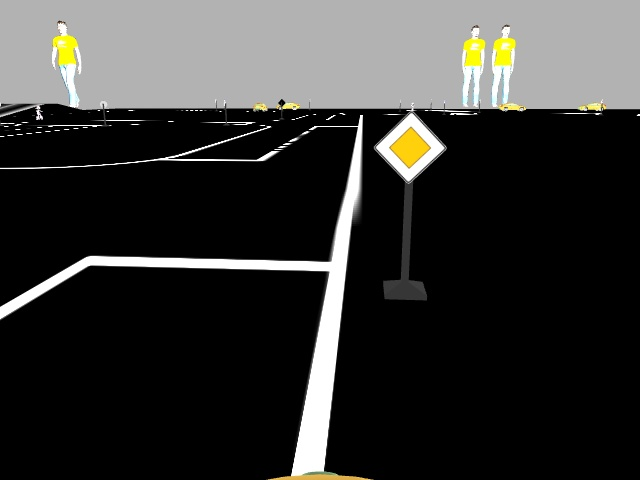Priority: (372, 110, 447, 182)
